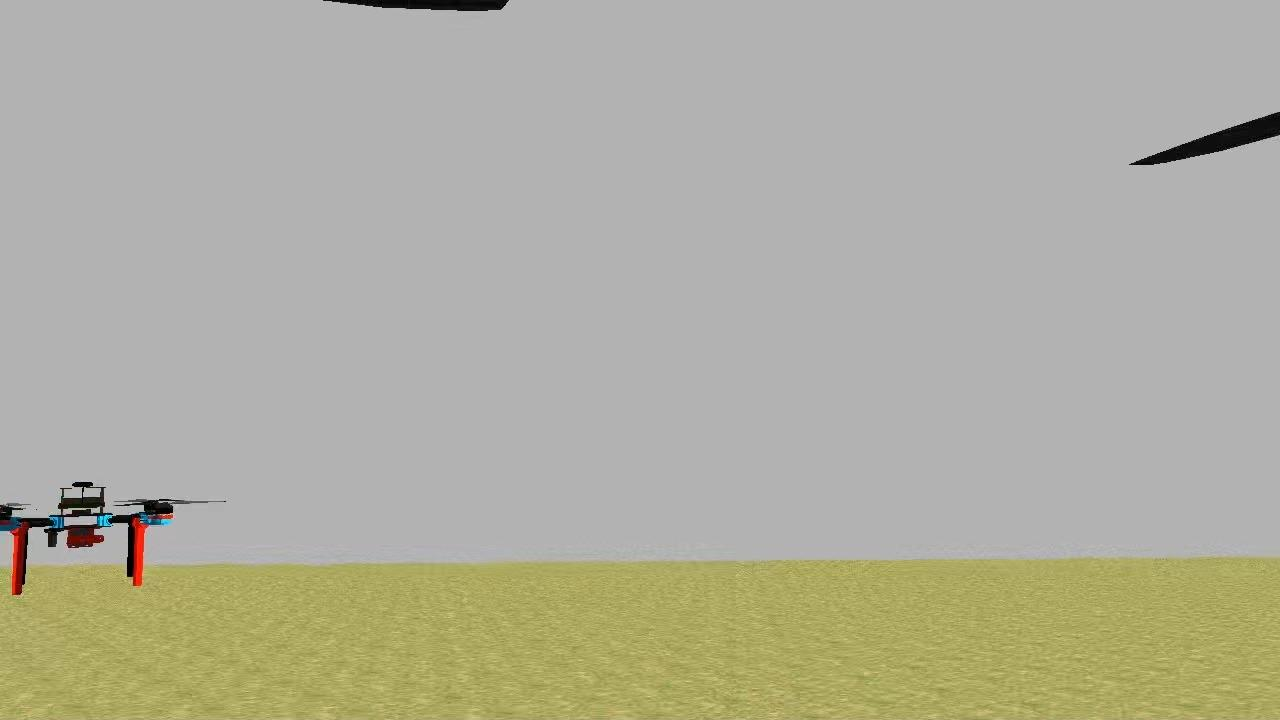UAV: (0, 468, 181, 601)
